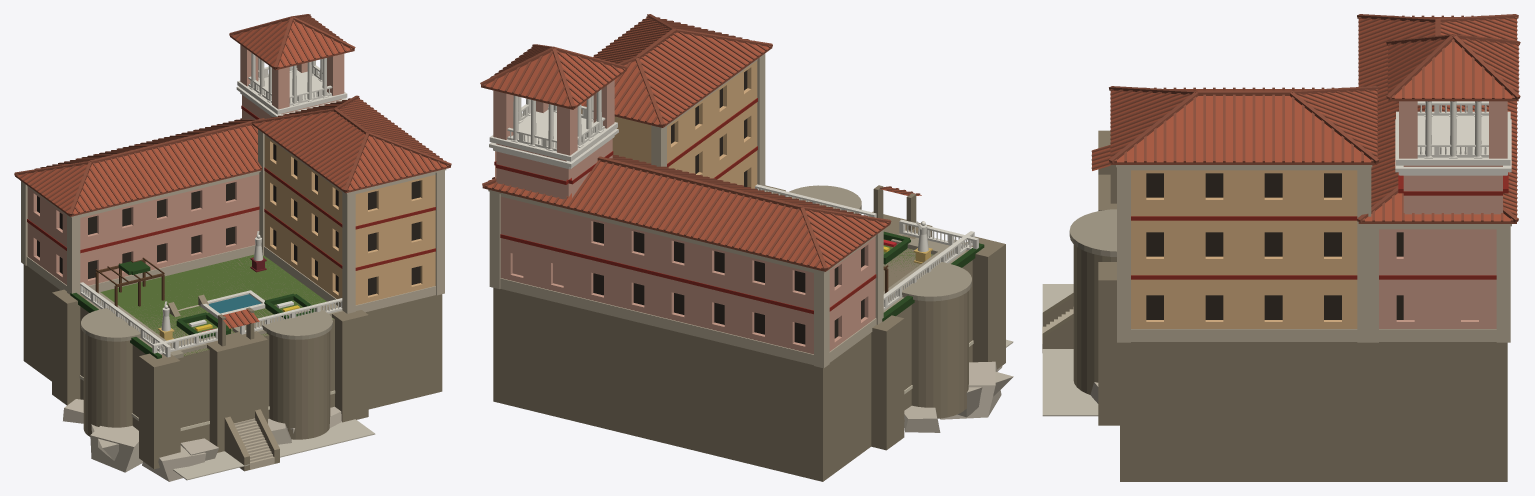
File: rome_pal_block_c.glb
The picture shows the model from 3 angles, left to right: view 1: azimuth 30°, elevation 25°; view 2: azimuth 150°, elevation 25°; view 3: azimuth 270°, elevation 25°; orthographic projection. The views are drawn at different scales.
Parts seen in each view (by area): view 1: rome_pal_block_c; view 2: rome_pal_block_c; view 3: rome_pal_block_c.
Part boxes in pixels (x1,y1,x2,y2): rome_pal_block_c: [14, 14, 451, 481]; rome_pal_block_c: [480, 14, 1013, 481]; rome_pal_block_c: [1042, 14, 1520, 481].
Size of the model in its own units: 35.35 by 31.42 by 30.85.
